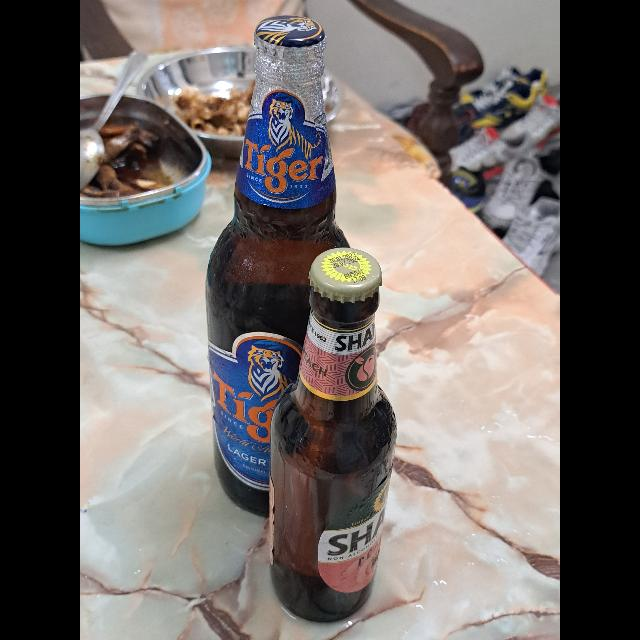garrafa de vidro: (204, 12, 352, 516), (272, 244, 394, 622)
